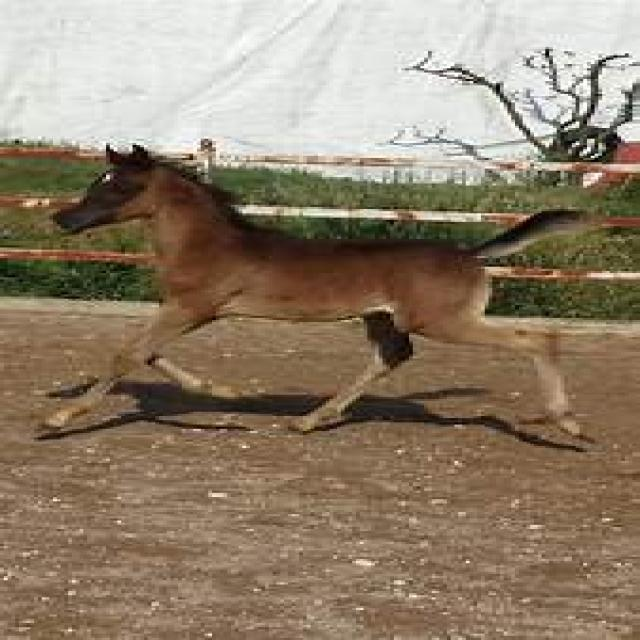horse: (38, 141, 606, 450)
